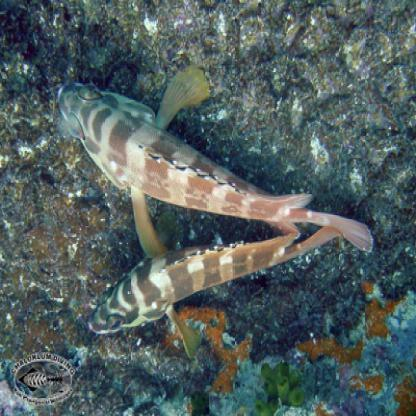Bio: (52, 64, 374, 254), (82, 224, 341, 356)
